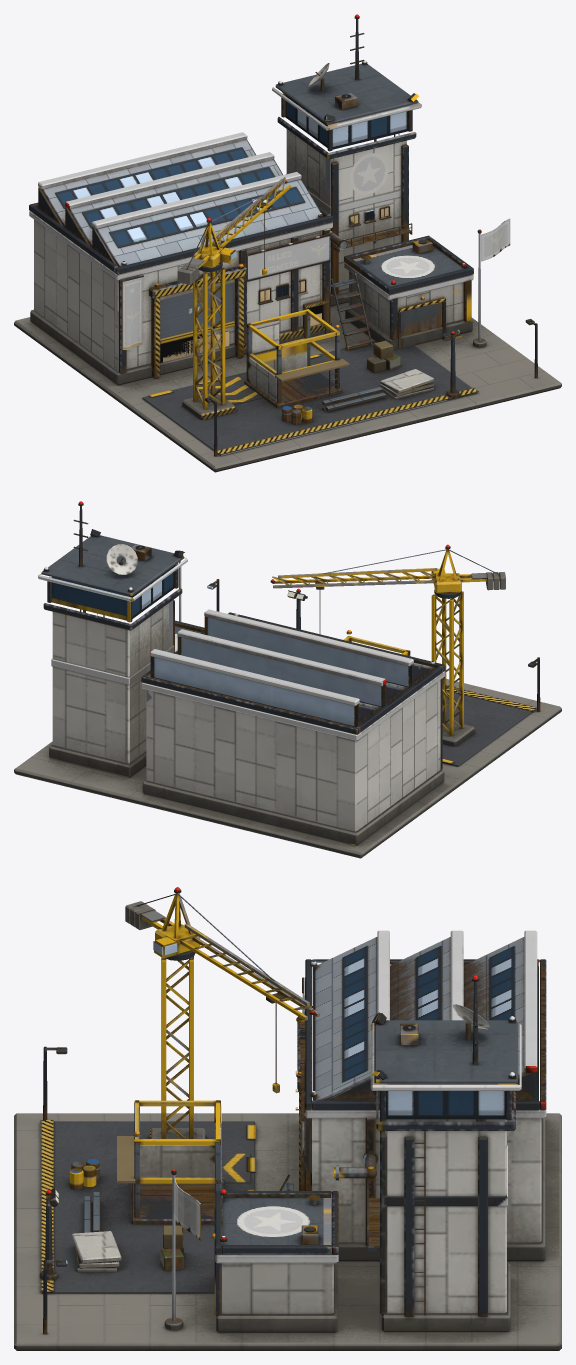
Rendered from fact.allies.glb.
3 renders of one model, top to bottom at view 1: azimuth 30°, elevation 25°; view 2: azimuth 150°, elevation 25°; view 3: azimuth 270°, elevation 25°, orthographic. The views are drawn at different scales.
Visible parts, largest first — view 1: root_mesh, crane_mesh; view 2: root_mesh, crane_mesh; view 3: root_mesh, crane_mesh.
Boxes of the visible parts, x1,y1,x2,y2 form: root_mesh: [14, 14, 561, 472]; crane_mesh: [177, 177, 290, 284]; root_mesh: [14, 501, 561, 858]; crane_mesh: [270, 544, 505, 633]; root_mesh: [14, 930, 561, 1350]; crane_mesh: [125, 887, 319, 1093].
Size of the model in its own units: 3.11 by 2.11 by 2.98.
1 material, 1 textured.
